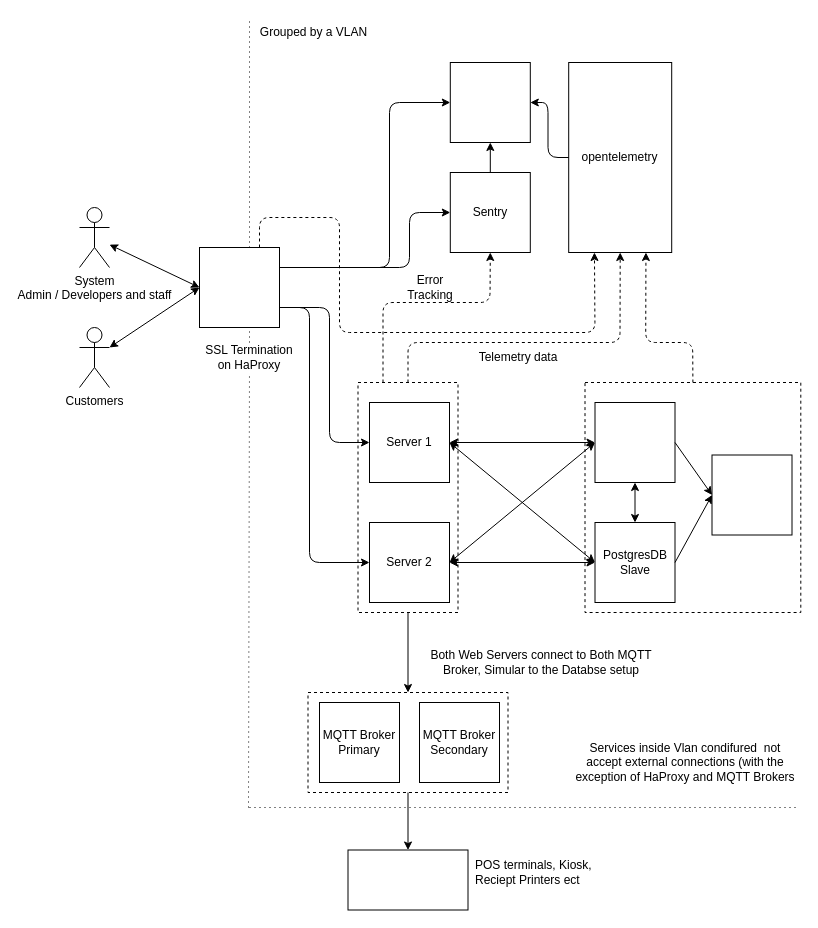
The diagram is 818 pixels wide and 928 high, and some of its shapes have lost their labels. The centre of each missing label's shape, as x and y in pixels:
Connected Devices: the point at 407,879
Grafana: the point at 489,102
HaProxy: the point at 239,287
PostgresDB Master: the point at 634,442
PostgresDB Readonly: the point at 751,494
